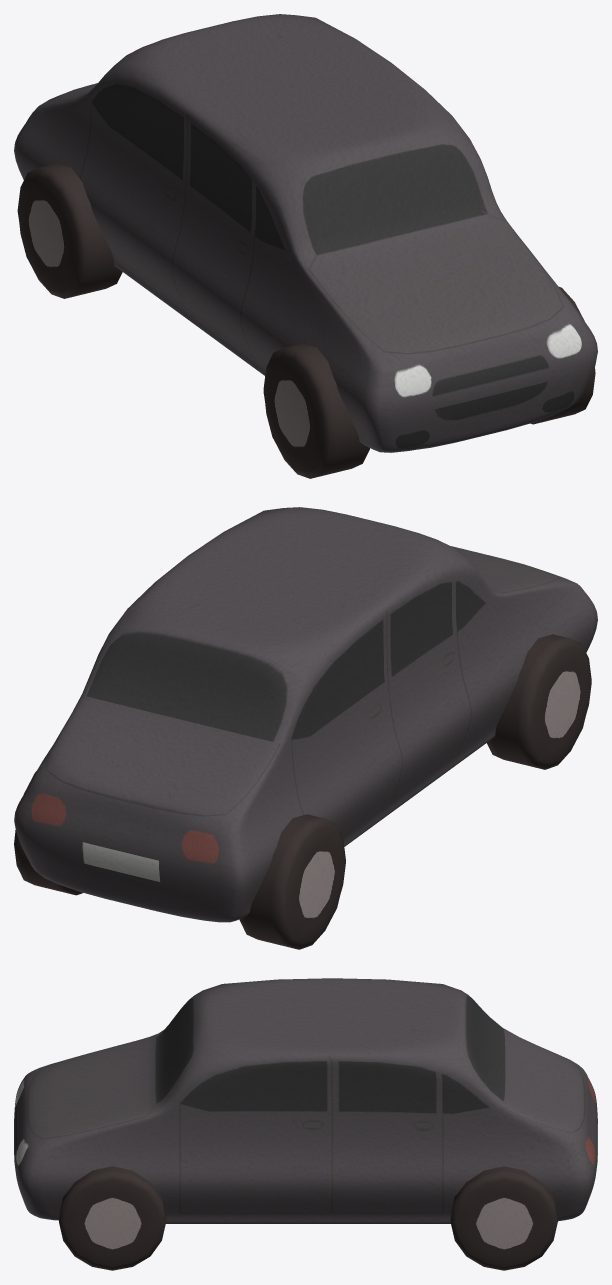
File: car_5.fbx
3 renders of one model, top to bottom at view 1: azimuth 30°, elevation 25°; view 2: azimuth 150°, elevation 25°; view 3: azimuth 270°, elevation 25°, orthographic. The views are drawn at different scales.
Parts seen in each view (by area): view 1: pCube46, pCylinder42, pCylinder41, pCylinder39; view 2: pCube46, pCylinder41, pCylinder42, pCylinder40; view 3: pCube46, pCylinder39, pCylinder40.
Part boxes in pixels (x1=…): pCube46: x1=14, y1=14, x2=597, y2=452; pCylinder42: x1=263, y1=343, x2=369, y2=478; pCylinder41: x1=17, y1=163, x2=122, y2=298; pCylinder39: x1=530, y1=286, x2=595, y2=424; pCube46: x1=14, y1=507, x2=597, y2=922; pCylinder41: x1=239, y1=814, x2=345, y2=949; pCylinder42: x1=487, y1=634, x2=591, y2=769; pCylinder40: x1=14, y1=771, x2=82, y2=895; pCube46: x1=14, y1=978, x2=597, y2=1223; pCylinder39: x1=59, y1=1166, x2=166, y2=1270; pCylinder40: x1=450, y1=1166, x2=557, y2=1270.
Bounding box in the file's own units: 92.69 × 83.16 × 215.
2 materials, 2 textured.
